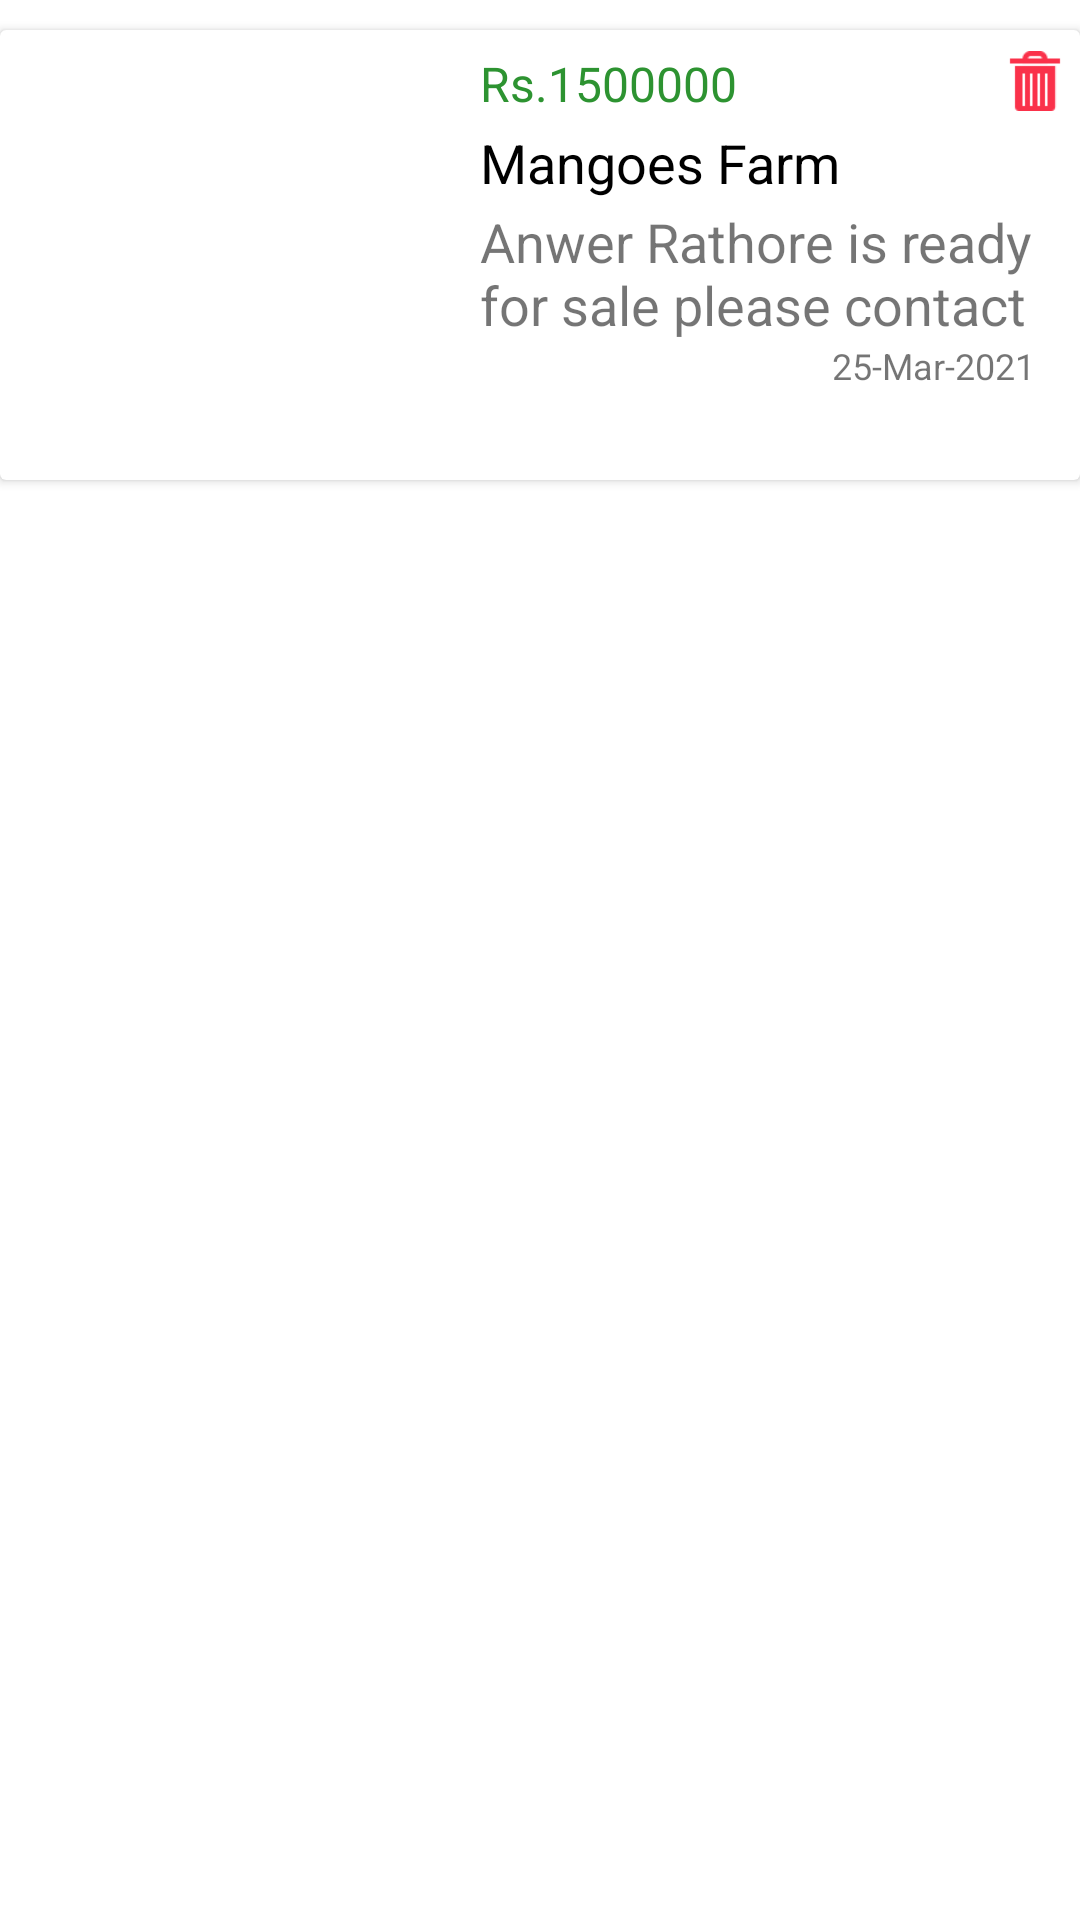

Named icons in this screenshot (1080x1920) and their bounding boxes, (x1, y1, x2, y2):
trash: (1010, 51, 1060, 111)
